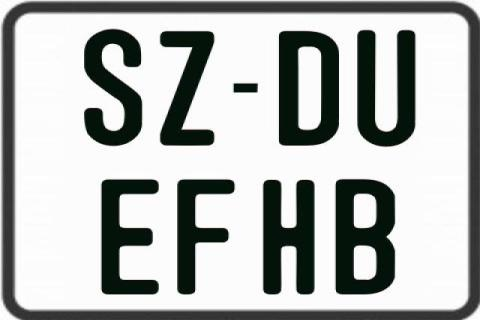B: (335, 177, 400, 293)
D: (277, 29, 342, 149)
E: (98, 177, 159, 296)
F: (174, 177, 232, 293)
H: (260, 179, 312, 297)
S: (84, 27, 146, 148)
U: (356, 29, 420, 149)
Z: (157, 29, 216, 143)
